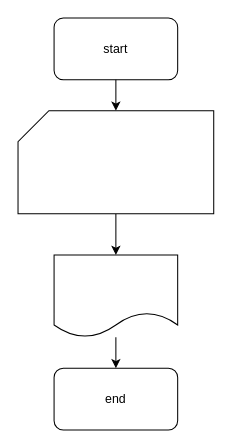
The diagram is 232 pixels wide and 448 high, and some of its shapes have lost their labels. The box of each missing label's shape, as (x1, y1, x2, y2) in pixels:
x(int) 'what is x': (17, 110, 214, 214)
x*3: (53, 254, 178, 337)
